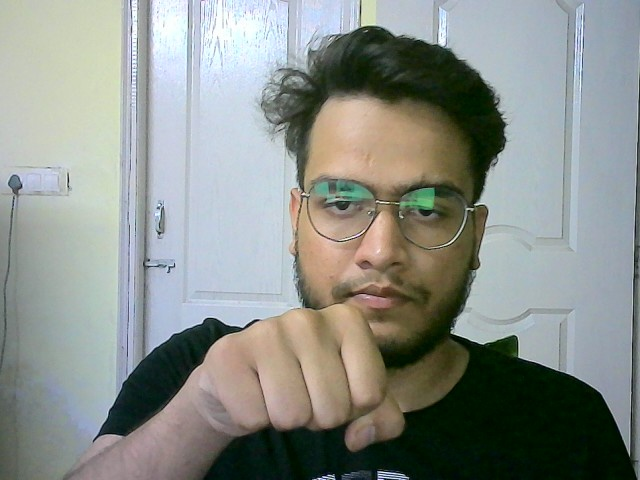Yes: (183, 299, 415, 459)
